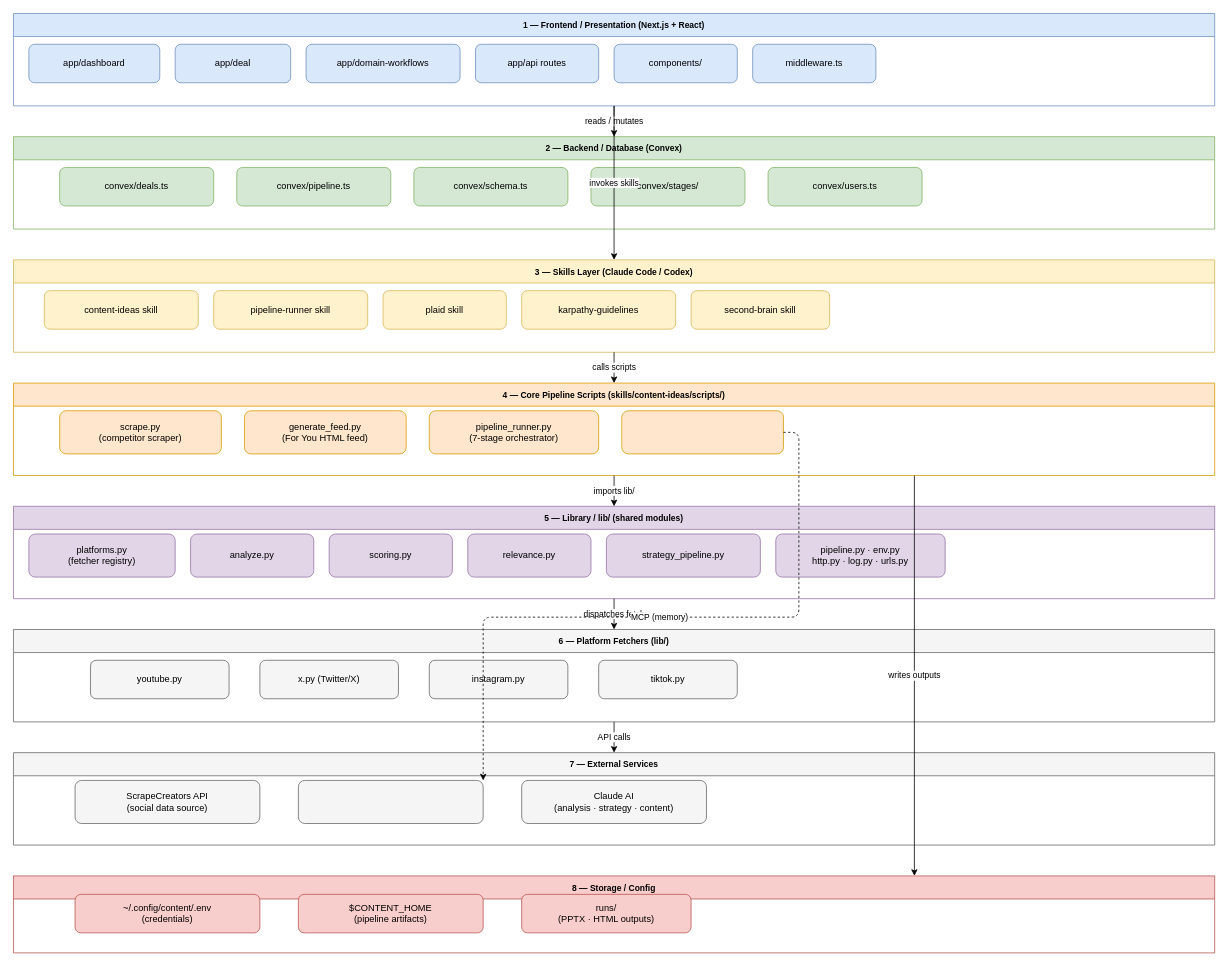
This 1228x966 diagram has some shape labels left out. Here are the shapes that lost their labels. From the top down, the centre of each, then its label:
At point 702,432: "gbrain_tool.py (GBrain MCP bridge)".
At point 390,802: "GBrain / PGLite (knowledge graph · memory)".
